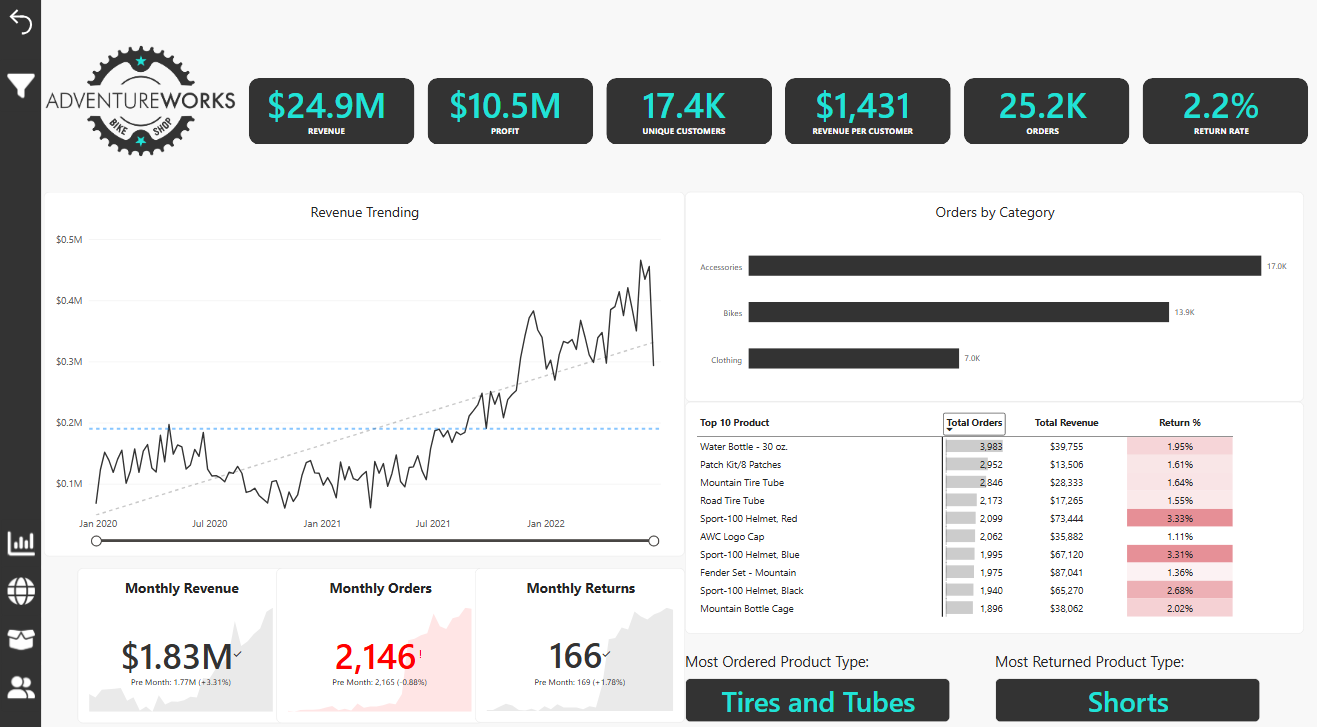

This screenshot's page, from the dashboard's own definition file:
{"tool":"powerbi","page":{"name":"Execu Dashboard","canvas":[1920,1080],"ordinal":0},"visuals":[{"type":"image","title":"AW Logo","box":[0,72,408,168],"z":0},{"type":"actionButton","box":[2,761.4,58,70],"z":0,"group":"g1"},{"type":"shape","title":"Left Nav Background","box":[0,0,60,1079.9],"z":1000},{"type":"actionButton","box":[2,831.1,58,70],"z":1000,"group":"g1"},{"type":"shape","box":[360,123.8,240,96],"z":2000},{"type":"actionButton","box":[2,900.7,58,70],"z":2000,"group":"g1"},{"type":"card","fields":{"Values":["Measure Table.Total Revenue"]},"box":[336,96,272,144],"z":3000},{"type":"actionButton","box":[2,970.4,58,70],"z":3000,"group":"g1"},{"type":"shape","box":[1136.9,123.8,240,96],"z":4000},{"type":"shape","box":[1395.8,123.8,240,96],"z":5000},{"type":"shape","box":[1654.8,123.8,240,96],"z":6000},{"type":"shape","box":[619,123.8,240,96],"z":7000},{"type":"shape","box":[877.9,123.8,240,96],"z":8000},{"type":"card","fields":{"Values":["Measure Table.Total Customers"]},"box":[854.4,96,272,144],"z":9000},{"type":"card","fields":{"Values":["Measure Table.Total Profit"]},"box":[595.2,96,272,144],"z":10000},{"type":"card","fields":{"Values":["Measure Table.Revenue per customer"]},"box":[1113.6,96,272,144],"z":11000},{"type":"card","fields":{"Values":["Measure Table.Total Orders"]},"box":[1372.8,96,272,144],"z":12000},{"type":"card","fields":{"Values":["Measure Table.Return Rate"]},"box":[1632,96,272,144],"z":13000},{"type":"lineChart","title":"Revenue Trending","fields":{"Category":["Calendar Lookup.Start of Month"],"Y":["Measure Table.Total Revenue"]},"box":[64,288,928,528],"z":14000},{"type":"kpi","title":"Monthly Revenue","fields":{"Goal":["Measure Table.Previous Month Revenue"],"Indicator":["Measure Table.Total Revenue"],"TrendLine":["Calendar Lookup.Start of Month"]},"box":[112,832,300,225],"z":15000},{"type":"kpi","title":"Monthly Orders","fields":{"Goal":["Measure Table.Previous Month Orders"],"Indicator":["Measure Table.Total Orders"],"TrendLine":["Calendar Lookup.Start of Month"]},"box":[400,832,300,225],"z":16000},{"type":"kpi","title":"Monthly Returns","fields":{"Goal":["Measure Table.Previous Month Returns"],"Indicator":["Measure Table.Total Returns"],"TrendLine":["Calendar Lookup.Start of Month"]},"box":[688,832,304,224],"z":17000},{"type":"clusteredBarChart","title":"Orders by Category","fields":{"Category":["Product Categories Lookup.CategoryName"],"Y":["Measure Table.Total Orders"]},"box":[992,288,896,304],"z":18000},{"type":"pivotTable","fields":{"Rows":["Product Lookup.ProductName"],"Values":["Measure Table.Total Orders","Measure Table.Total Revenue","Measure Table.Return Rate"]},"box":[992,592,896,336],"z":19000},{"type":"cardVisual","fields":{"Data":["Min(Product Subcategories Lookup.SubcategoryName)"]},"box":[992,992,384,64],"z":20000},{"type":"cardVisual","fields":{"Data":["Min(Product Subcategories Lookup.SubcategoryName)"]},"box":[1440,992,384,64],"z":21000},{"type":"textbox","box":[208,256,336,112],"z":22000},{"type":"textbox","box":[992,952,304,32],"z":23000},{"type":"textbox","box":[1440,952,304,32],"z":24000},{"type":"actionButton","box":[0,0,60,82.9],"z":25000},{"type":"group","id":"g1","title":"Navigation Buttons","box":[2,761.4,58,279],"z":26000},{"type":"actionButton","box":[0,96,60,76],"z":27000}]}

Visuals, with their boxes on the page's 1920x1080 design canvas (x1, y1, x2, y2). These are canvas units, not pixel positions in the 1317x727 screenshot, which may show the page scaled, cropped or inside an application window:
"AW Logo" image: left=0, top=72, right=408, bottom=240
actionButton: left=2, top=761, right=60, bottom=831
"Left Nav Background" shape: left=0, top=0, right=60, bottom=1080
actionButton: left=2, top=831, right=60, bottom=901
shape: left=360, top=124, right=600, bottom=220
actionButton: left=2, top=901, right=60, bottom=971
card - Measure Table.Total Revenue: left=336, top=96, right=608, bottom=240
actionButton: left=2, top=970, right=60, bottom=1040
shape: left=1137, top=124, right=1377, bottom=220
shape: left=1396, top=124, right=1636, bottom=220
shape: left=1655, top=124, right=1895, bottom=220
shape: left=619, top=124, right=859, bottom=220
shape: left=878, top=124, right=1118, bottom=220
card - Measure Table.Total Customers: left=854, top=96, right=1126, bottom=240
card - Measure Table.Total Profit: left=595, top=96, right=867, bottom=240
card - Measure Table.Revenue per customer: left=1114, top=96, right=1386, bottom=240
card - Measure Table.Total Orders: left=1373, top=96, right=1645, bottom=240
card - Measure Table.Return Rate: left=1632, top=96, right=1904, bottom=240
"Revenue Trending" lineChart: left=64, top=288, right=992, bottom=816
"Monthly Revenue" kpi: left=112, top=832, right=412, bottom=1057
"Monthly Orders" kpi: left=400, top=832, right=700, bottom=1057
"Monthly Returns" kpi: left=688, top=832, right=992, bottom=1056
"Orders by Category" clusteredBarChart: left=992, top=288, right=1888, bottom=592
pivotTable - Product Lookup.ProductName x Measure Table.Total Orders: left=992, top=592, right=1888, bottom=928
cardVisual - Min(Product Subcategories Lookup.SubcategoryName): left=992, top=992, right=1376, bottom=1056
cardVisual - Min(Product Subcategories Lookup.SubcategoryName): left=1440, top=992, right=1824, bottom=1056
textbox: left=208, top=256, right=544, bottom=368
textbox: left=992, top=952, right=1296, bottom=984
textbox: left=1440, top=952, right=1744, bottom=984
actionButton: left=0, top=0, right=60, bottom=83
"Navigation Buttons" group: left=2, top=761, right=60, bottom=1040
actionButton: left=0, top=96, right=60, bottom=172
